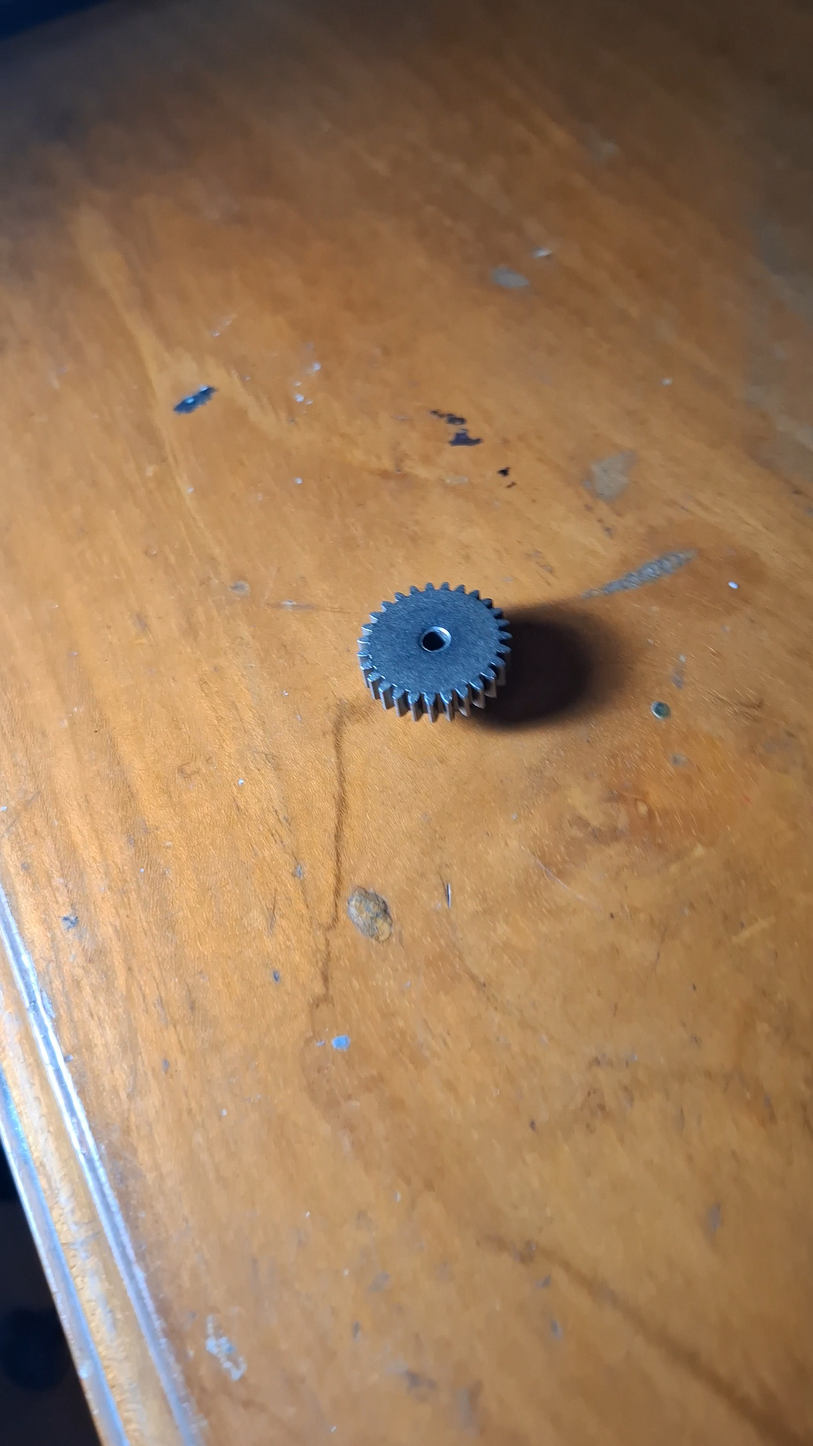spur gear: (358, 583, 510, 721)
